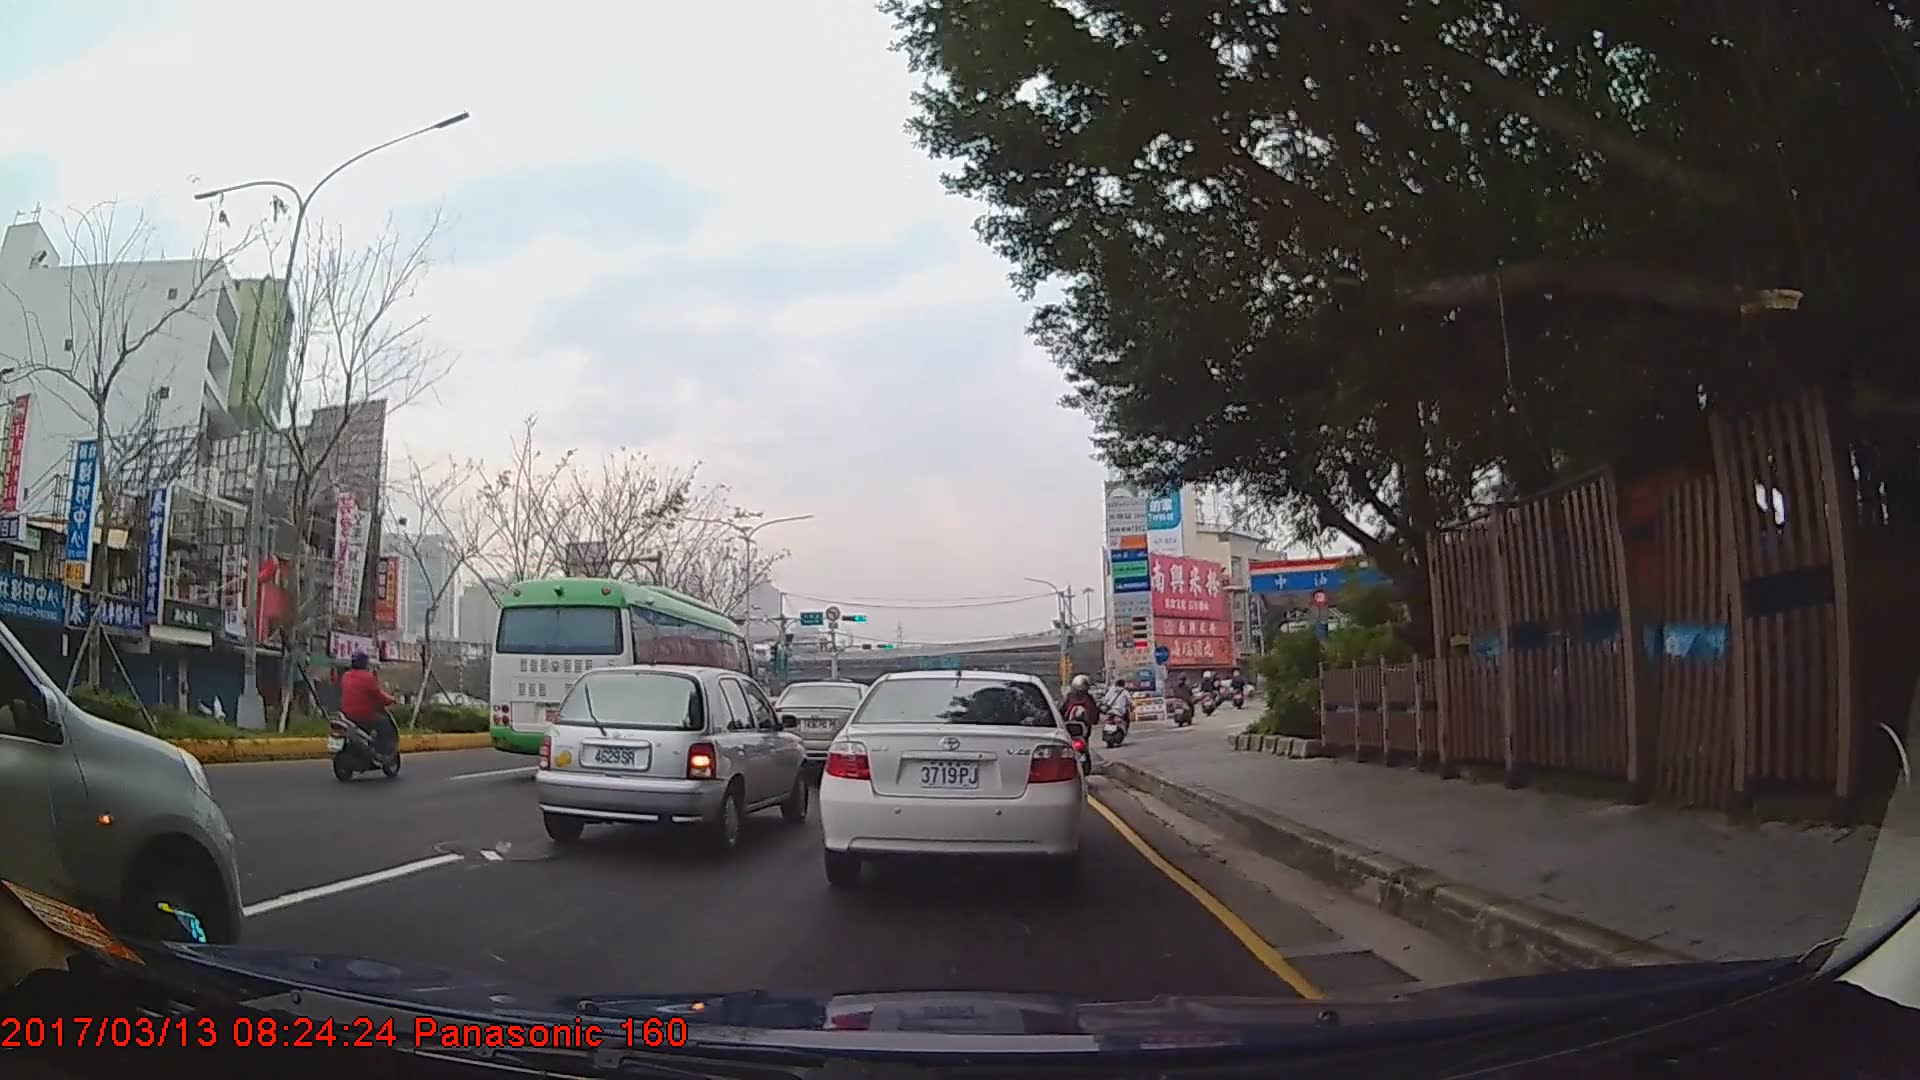rider: (324, 646, 402, 790), (1063, 673, 1106, 782), (1103, 675, 1135, 750), (1173, 671, 1194, 725), (1199, 669, 1219, 717)
vehicle: (0, 613, 242, 967), (484, 575, 761, 789), (819, 666, 1086, 881), (531, 661, 807, 846), (766, 680, 884, 773)
